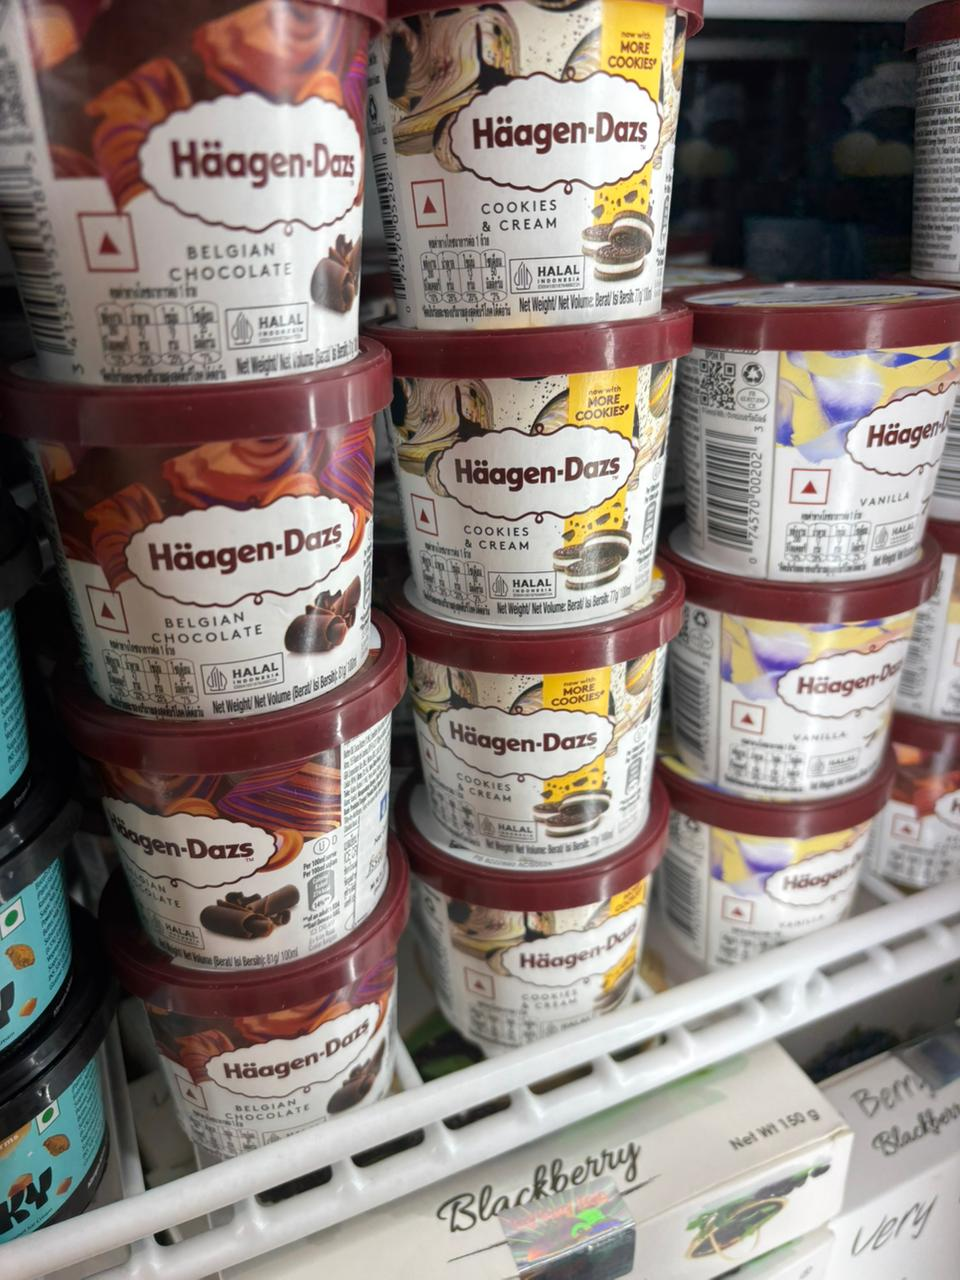Haagen-Dazs IceCream Tub: (0, 0, 378, 368), (43, 371, 390, 735), (89, 658, 412, 1020), (360, 0, 680, 327), (89, 885, 398, 1188), (399, 314, 697, 623), (670, 254, 941, 567), (404, 592, 687, 877), (415, 828, 668, 1066), (670, 556, 907, 800), (654, 752, 888, 955)
